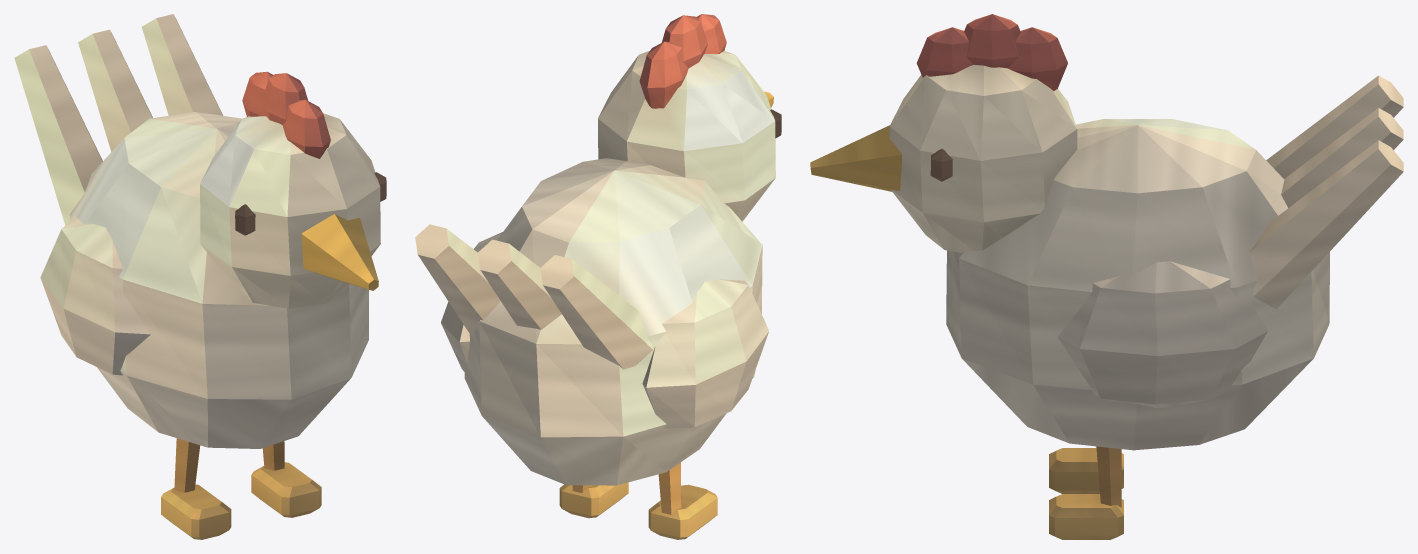
File: farm_hen.glb
3 views of the same model, side by side, from view 1: azimuth 30°, elevation 25°; view 2: azimuth 150°, elevation 25°; view 3: azimuth 270°, elevation 25° (orthographic). The views are drawn at different scales.
Parts seen in each view (by area): view 1: Huhn · Laufender Stallbewohner; view 2: Huhn · Laufender Stallbewohner; view 3: Huhn · Laufender Stallbewohner.
Boxes of the visible parts, x1,y1,x2,y2 form: Huhn · Laufender Stallbewohner: (14, 14, 386, 539); Huhn · Laufender Stallbewohner: (415, 14, 781, 539); Huhn · Laufender Stallbewohner: (810, 14, 1403, 539).
Bounding box in the file's own units: 0.452 × 0.715 × 0.7756.
2 materials, 1 textured.
